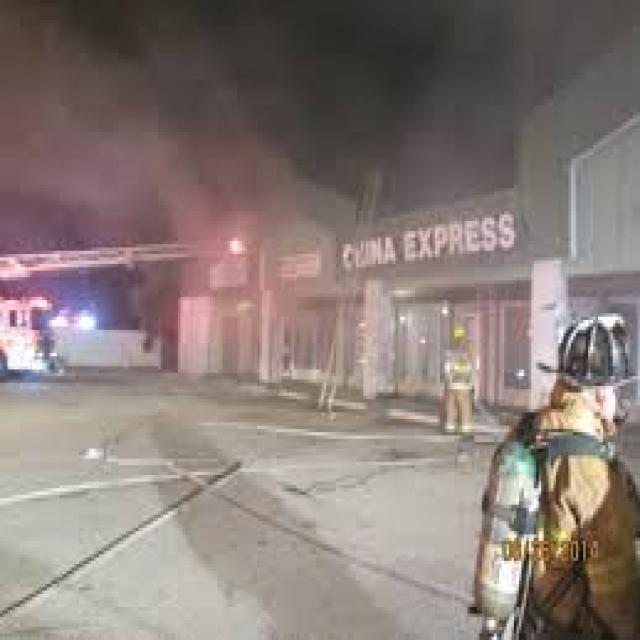Smoke: (0, 0, 640, 264)
